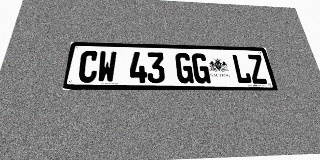3: (147, 52, 165, 83)
4: (129, 52, 147, 83)
C: (77, 50, 99, 83)
G: (191, 53, 211, 83), (175, 53, 194, 83)
L: (231, 54, 252, 84)
W: (96, 51, 117, 83)
Z: (246, 54, 268, 84)
